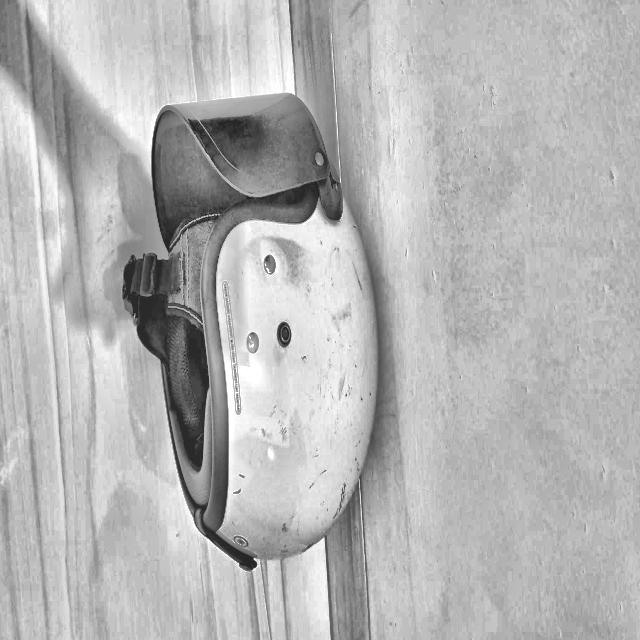Helmet: (306, 452, 615, 640)
